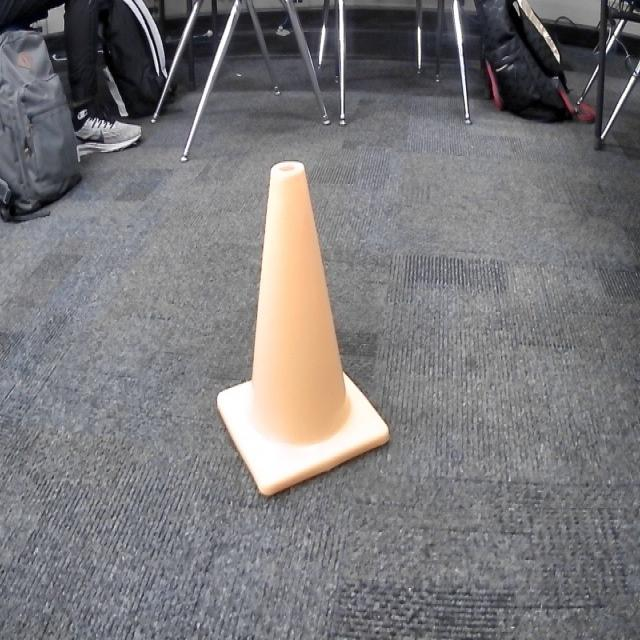cone: (216, 160, 395, 504)
